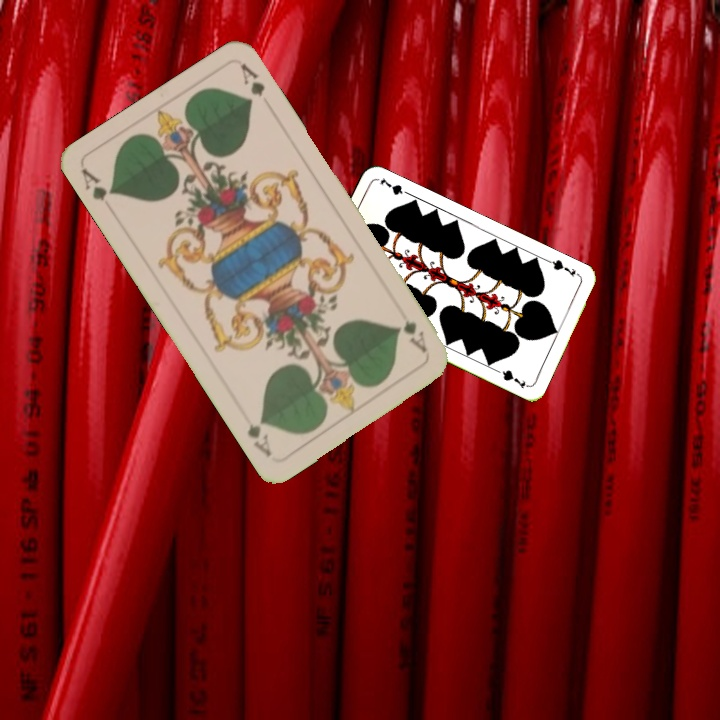G7: (544, 255, 582, 279)
GA: (77, 164, 117, 204), (392, 316, 430, 355)
